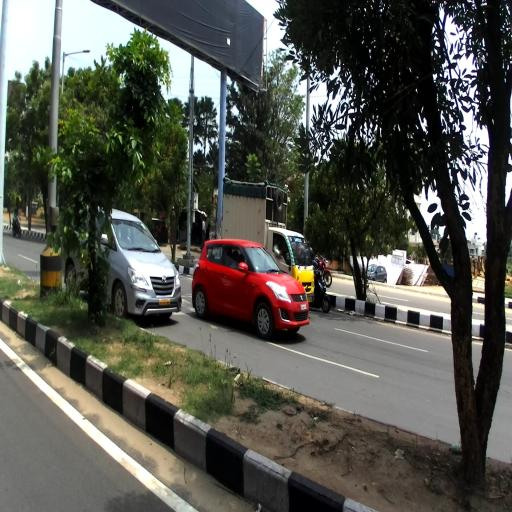street_light_0: (61, 50, 90, 58)
